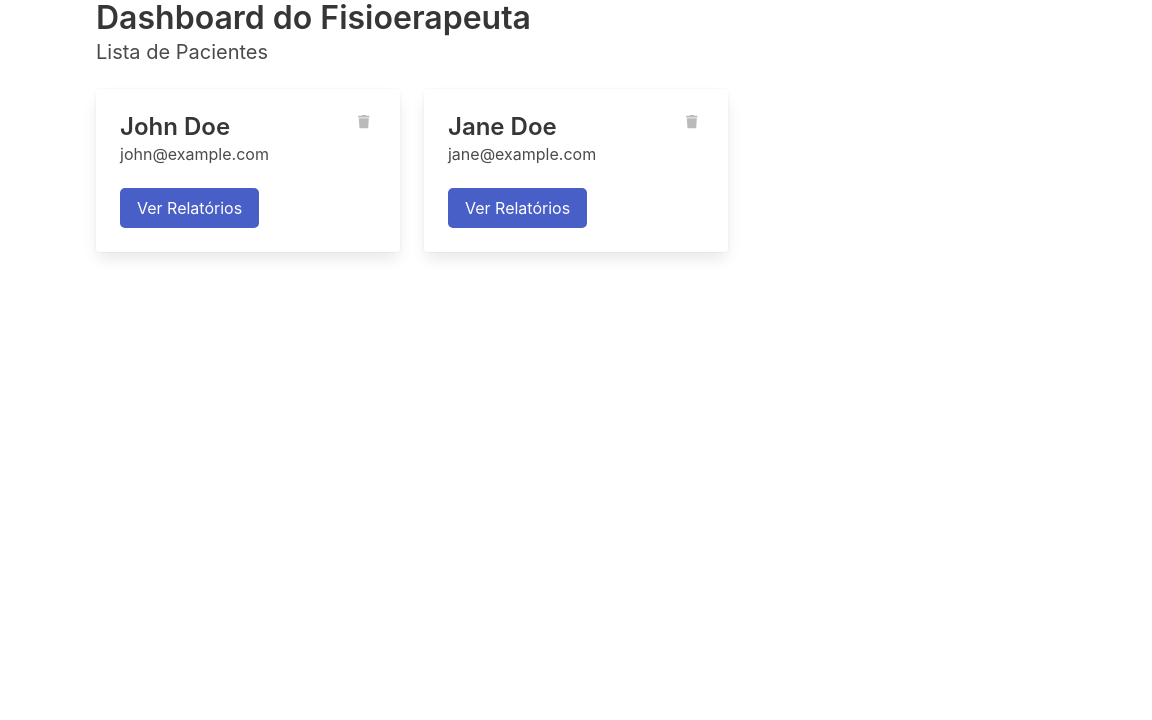
Test case: PatientList › clicking cancel button in modal closes it
The width and height of the screenshot is (1152, 720).
Click the 1st button named "delete patient" at (364, 122), box x1=352 y1=113 x2=376 y2=131
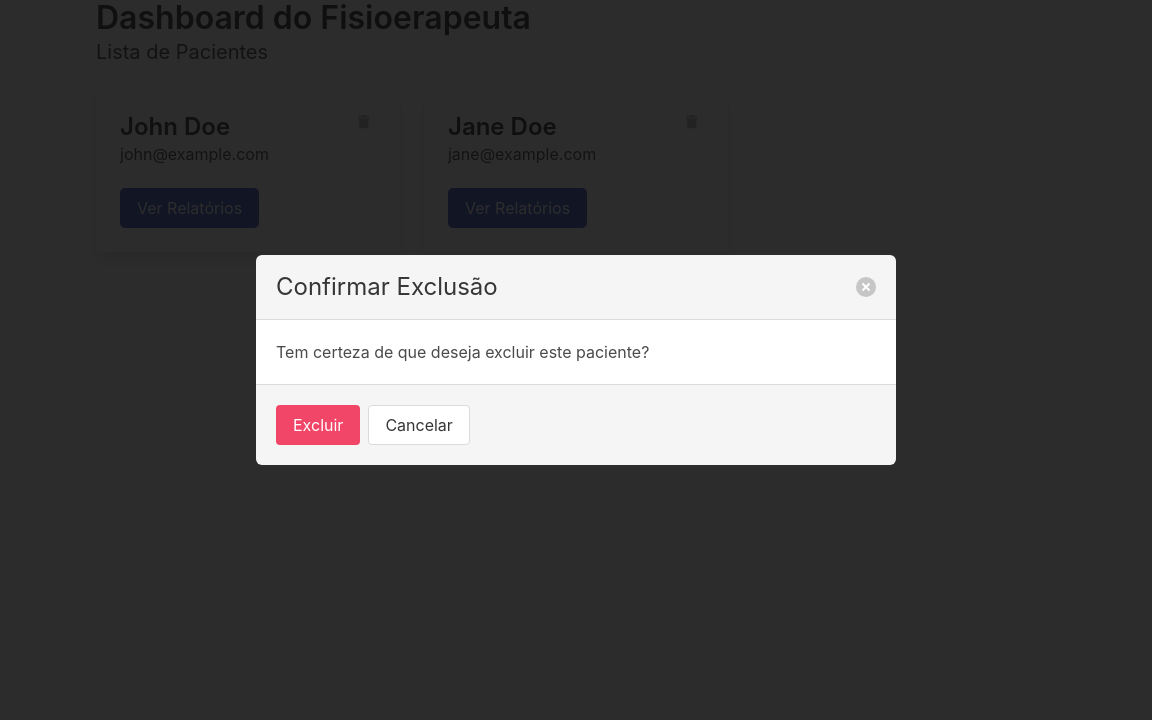
Click the button "Cancelar" at (419, 425), box x1=368 y1=405 x2=470 y2=445
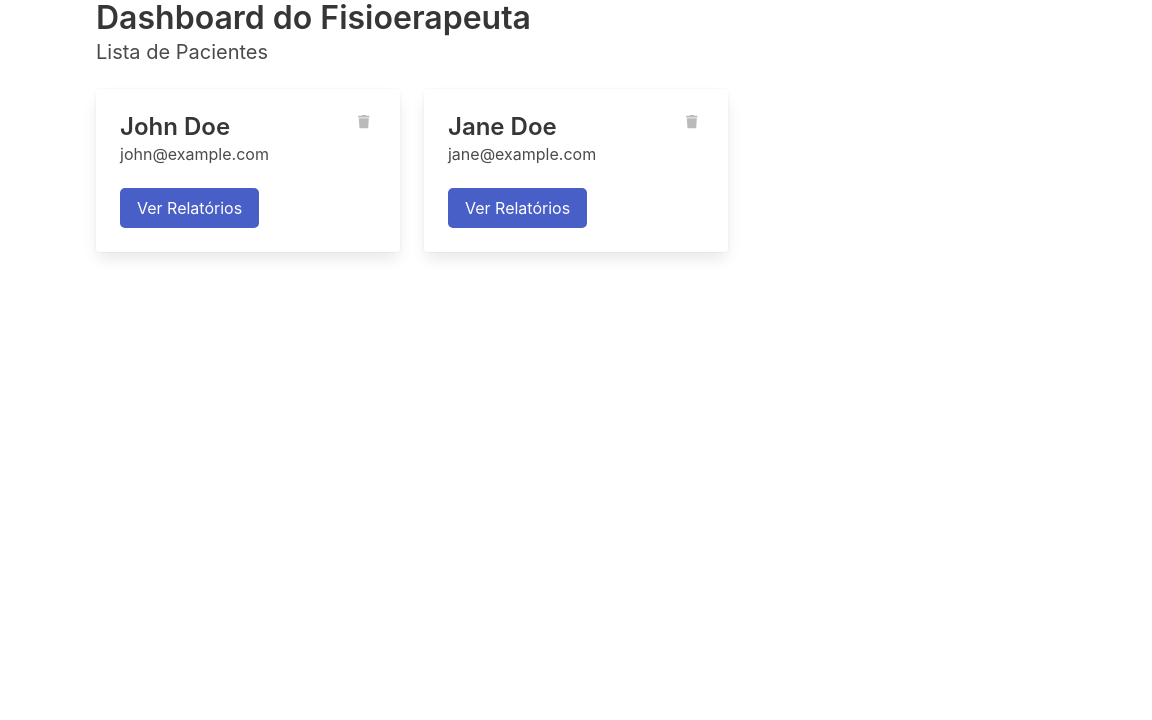
Expected: the text "Tem certeza de que deseja excluir este paciente?" is gone
